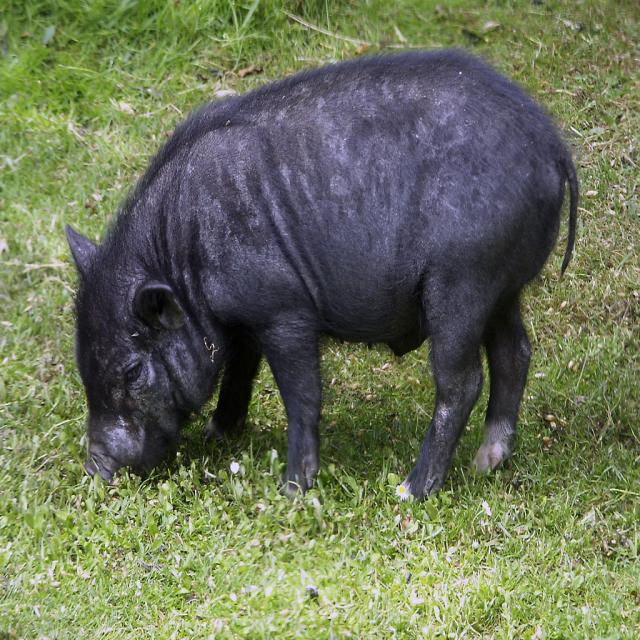Pig: (64, 43, 578, 507)
